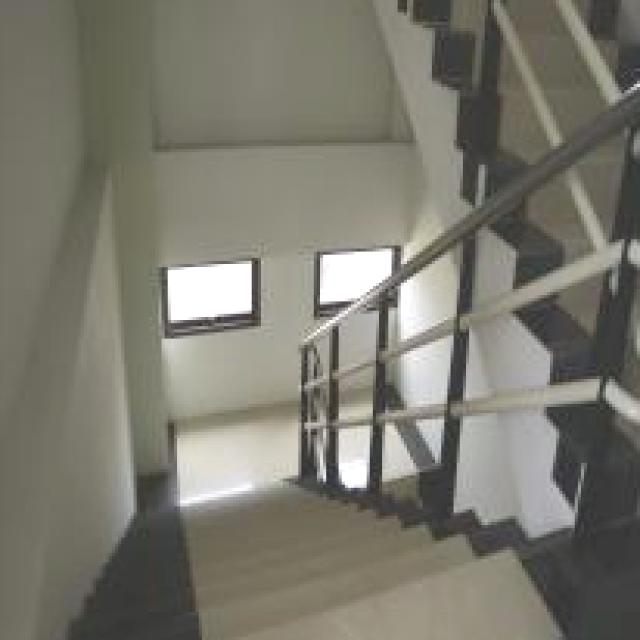downstair: (141, 532, 445, 640)
